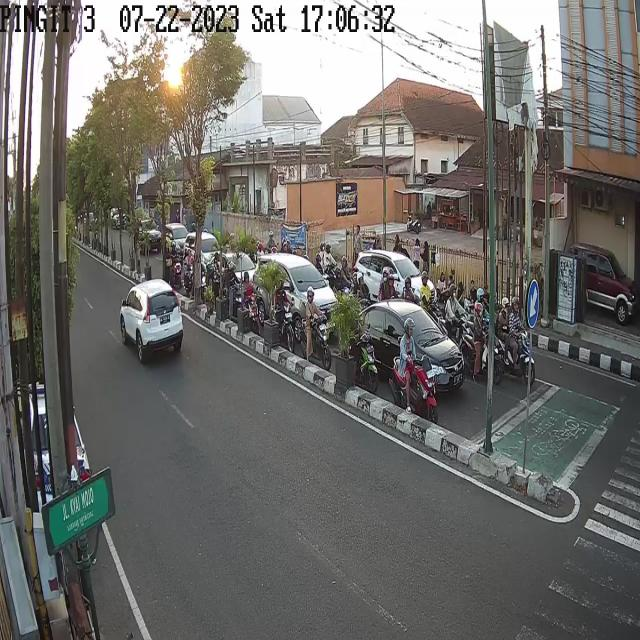car: (352, 299, 464, 391), (254, 255, 338, 336), (118, 278, 186, 363), (575, 244, 638, 326), (354, 251, 437, 304), (178, 229, 218, 259), (134, 218, 162, 255), (165, 224, 187, 251)
motorcycle: (390, 319, 436, 420), (344, 300, 381, 383), (463, 303, 499, 386), (501, 299, 536, 381), (302, 280, 333, 370), (272, 278, 294, 352), (242, 270, 261, 345), (227, 260, 244, 316), (406, 218, 421, 233)
